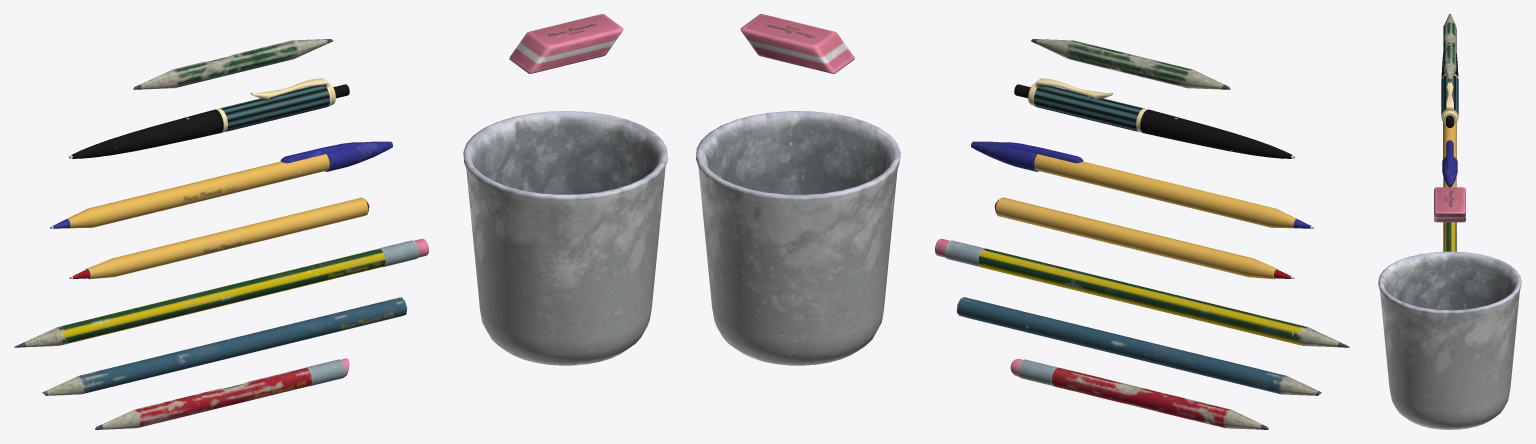
File: stationery_supplies_1k.gltf
The picture shows the model from 3 angles, left to right: view 1: azimuth 30°, elevation 25°; view 2: azimuth 150°, elevation 25°; view 3: azimuth 270°, elevation 25°; orthographic projection. The views are drawn at different scales.
Visible parts, largest first — view 1: stationery_supplies_pencilcup, stationery_supplies_pencil_new_a, stationery_supplies_pencil_new_b, stationery_supplies_pen_blue, stationery_supplies_pen_fancy, stationery_supplies_pen_red, stationery_supplies_pencil_used, stationery_supplies_eraser, stationery_supplies_pencil_old; view 2: stationery_supplies_pencilcup, stationery_supplies_pencil_new_a, stationery_supplies_pencil_new_b, stationery_supplies_pen_blue, stationery_supplies_pen_fancy, stationery_supplies_pen_red, stationery_supplies_pencil_used, stationery_supplies_eraser, stationery_supplies_pencil_old; view 3: stationery_supplies_pencilcup, stationery_supplies_eraser, stationery_supplies_pen_fancy, stationery_supplies_pen_blue, stationery_supplies_pencil_old, stationery_supplies_pencil_new_a.
Boxes of the visible parts, box(x1,y1,x2,y2) form: stationery_supplies_pencilcup: box(463, 111, 667, 365); stationery_supplies_pencil_new_a: box(14, 238, 428, 347); stationery_supplies_pencil_new_b: box(42, 297, 407, 395); stationery_supplies_pen_blue: box(50, 141, 392, 228); stationery_supplies_pen_fancy: box(69, 78, 349, 158); stationery_supplies_pen_red: box(69, 197, 369, 279); stationery_supplies_pencil_used: box(95, 358, 349, 429); stationery_supplies_eraser: box(509, 14, 623, 73); stationery_supplies_pencil_old: box(133, 39, 333, 89); stationery_supplies_pencilcup: box(696, 111, 900, 365); stationery_supplies_pencil_new_a: box(935, 238, 1349, 347); stationery_supplies_pencil_new_b: box(956, 297, 1321, 395); stationery_supplies_pen_blue: box(971, 141, 1313, 228); stationery_supplies_pen_fancy: box(1014, 78, 1294, 158); stationery_supplies_pen_red: box(994, 197, 1294, 279); stationery_supplies_pencil_used: box(1010, 359, 1268, 429); stationery_supplies_eraser: box(740, 14, 854, 73); stationery_supplies_pencil_old: box(1031, 39, 1230, 89); stationery_supplies_pencilcup: box(1378, 251, 1521, 429); stationery_supplies_eraser: box(1434, 187, 1465, 222); stationery_supplies_pen_fancy: box(1441, 53, 1458, 127); stationery_supplies_pen_blue: box(1442, 122, 1457, 187); stationery_supplies_pencil_old: box(1443, 14, 1456, 82); stationery_supplies_pencil_new_a: box(1443, 222, 1456, 251).
Size of the model in its own units: 0.3019 by 0.1643 by 0.0837.
1 material, 1 textured.
